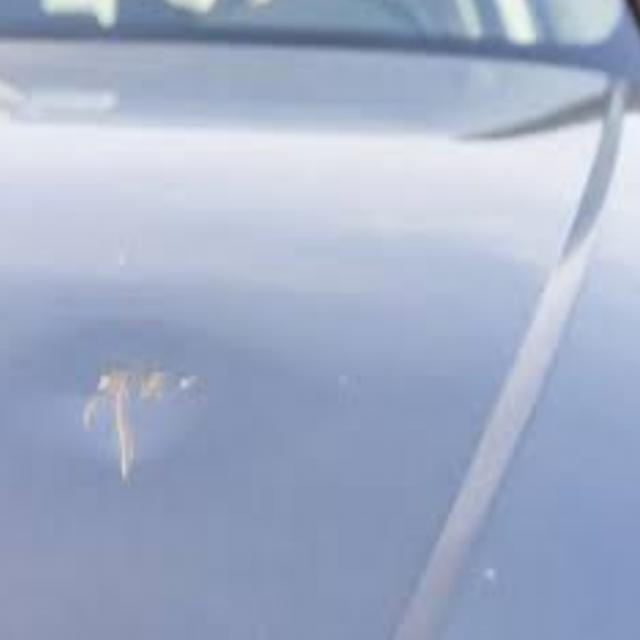dents: (82, 354, 222, 481)
